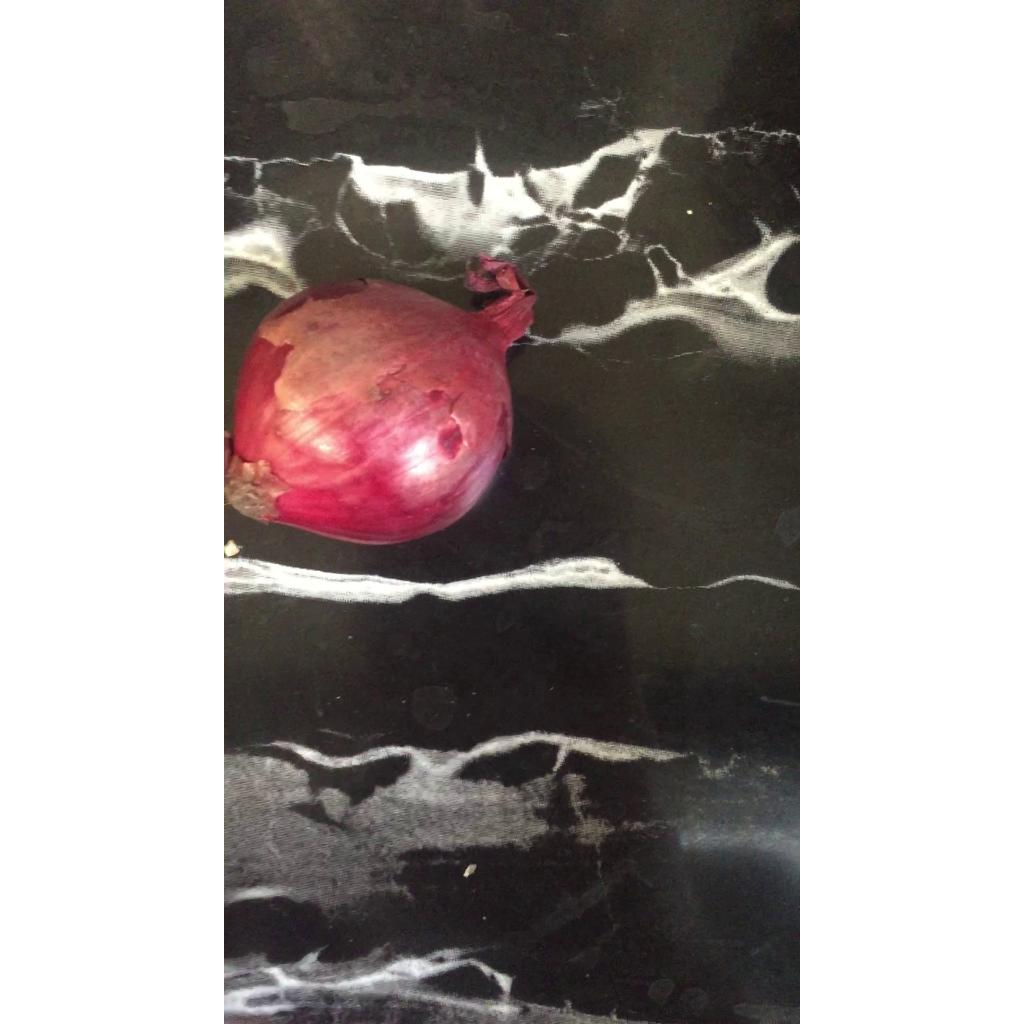Onion: (225, 254, 535, 544)
